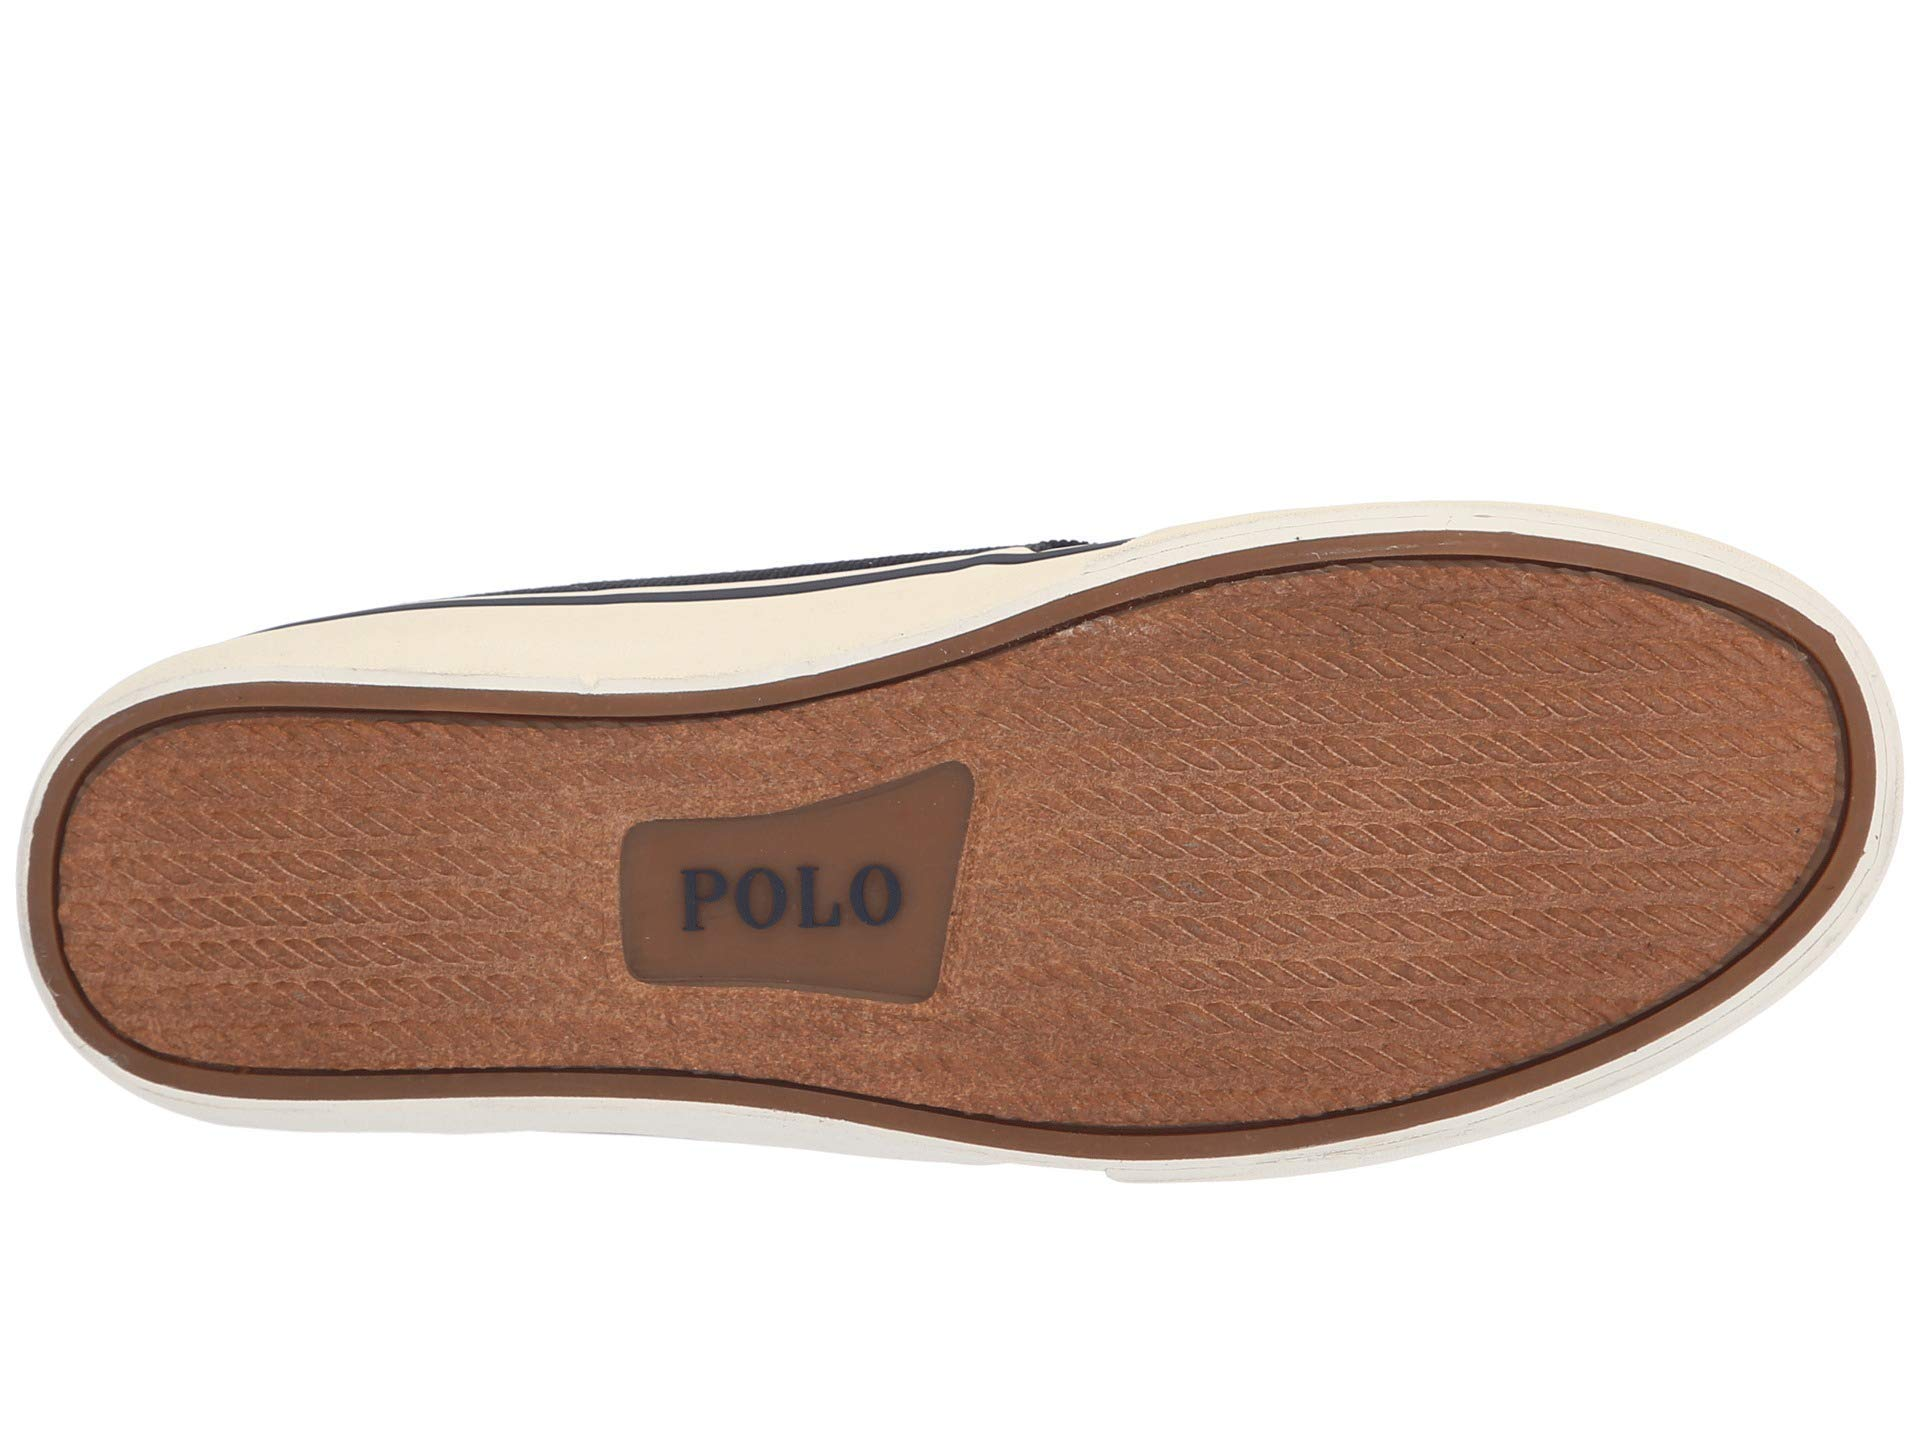circle: (652, 850, 931, 953)
quad: (1079, 666, 1547, 1056), (178, 774, 561, 1019)
text: (652, 850, 931, 953)
